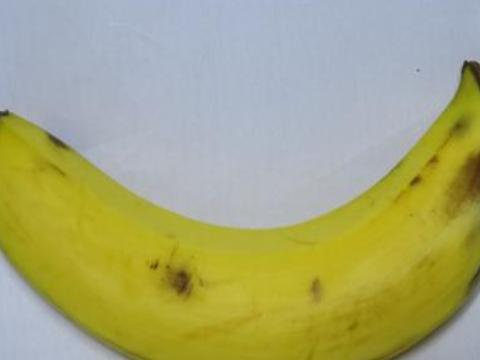freshripe: (0, 50, 479, 359)
